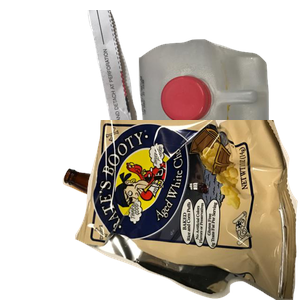glass: (60, 166, 241, 300)
paper: (85, 10, 224, 190)
plastic: (136, 37, 300, 188)
trash: (75, 120, 300, 300)
